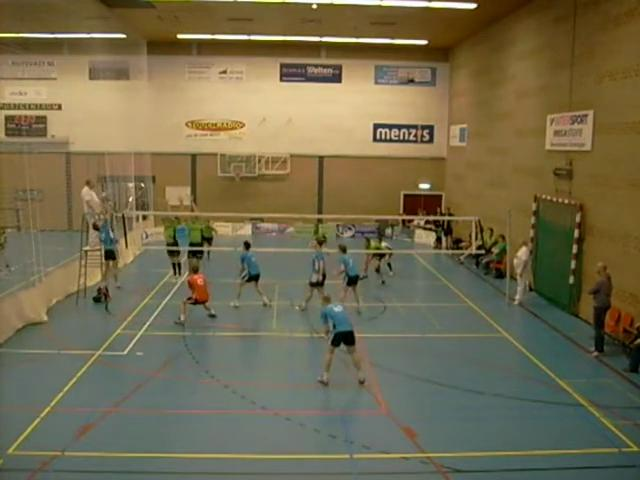attacco: (84, 203, 126, 298)
muro: (179, 192, 211, 277), (157, 196, 186, 282)
